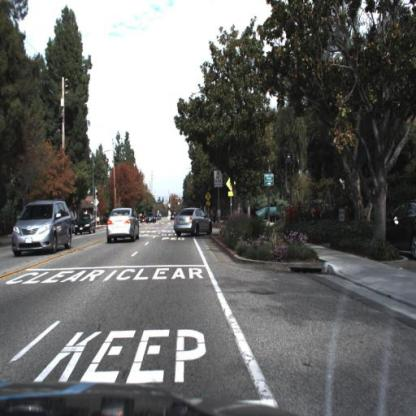car: (12, 200, 73, 260), (105, 205, 142, 245), (172, 206, 213, 238), (74, 211, 99, 238), (144, 210, 158, 229)
